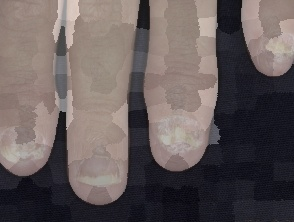Nail_psoriasis: (0, 116, 53, 175), (157, 113, 206, 158), (72, 154, 125, 191), (258, 25, 294, 62)
